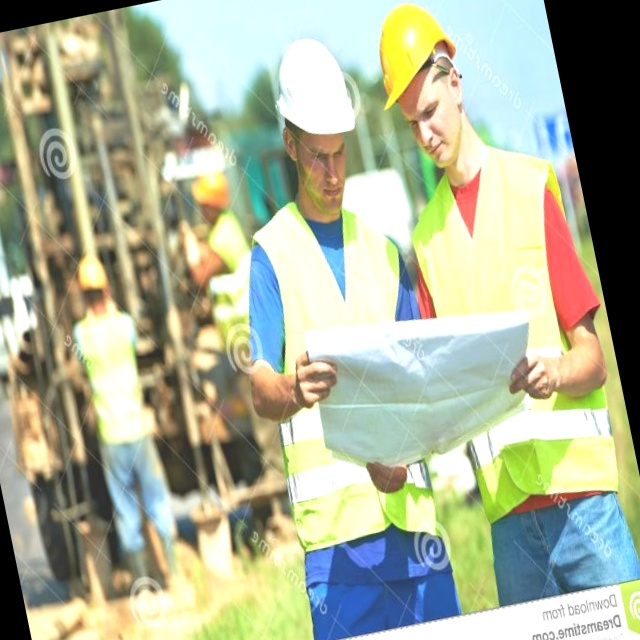Con_Casco: (265, 31, 372, 225), (366, 0, 475, 172)
Con_Chaleco: (233, 207, 446, 550), (406, 152, 611, 506)
